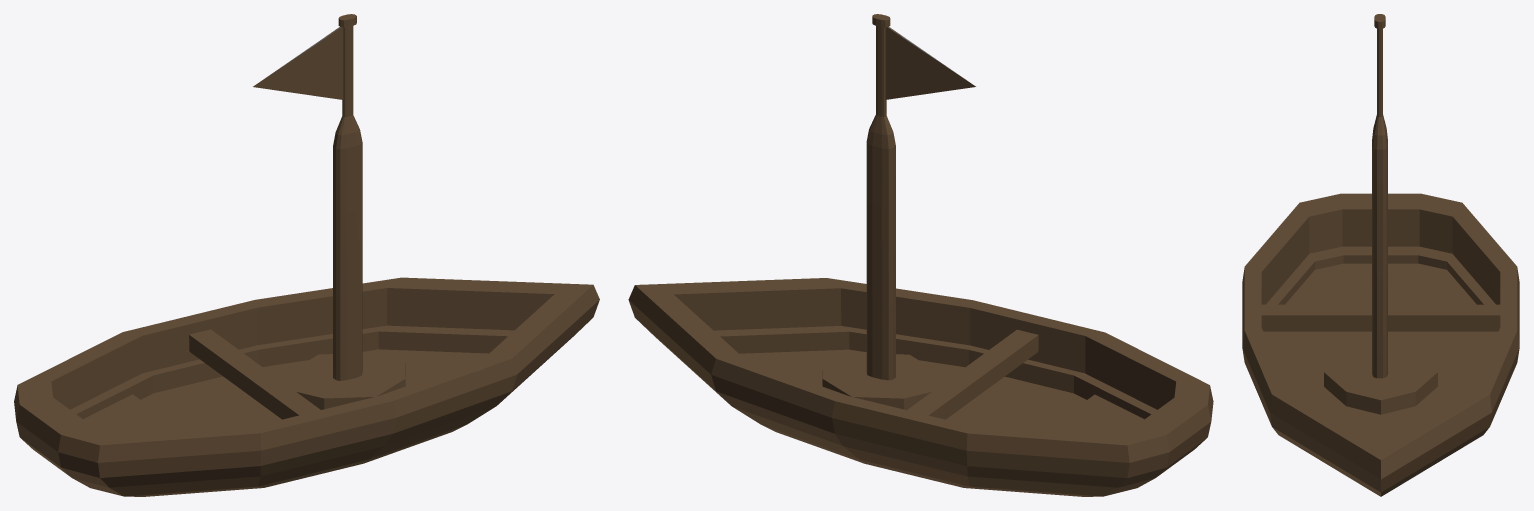
Rendered from Raft4.fbx.
The picture shows the model from 3 angles, left to right: view 1: azimuth 30°, elevation 25°; view 2: azimuth 150°, elevation 25°; view 3: azimuth 270°, elevation 25°; orthographic projection.
Visible parts, largest first — view 1: Raft4; view 2: Raft4; view 3: Raft4.
Part boxes in pixels (x1,y1,x2,y2): Raft4: (14, 14, 599, 496); Raft4: (628, 14, 1213, 496); Raft4: (1242, 14, 1519, 496).
Size of the model in its own units: 3725 by 2532 by 1611.
